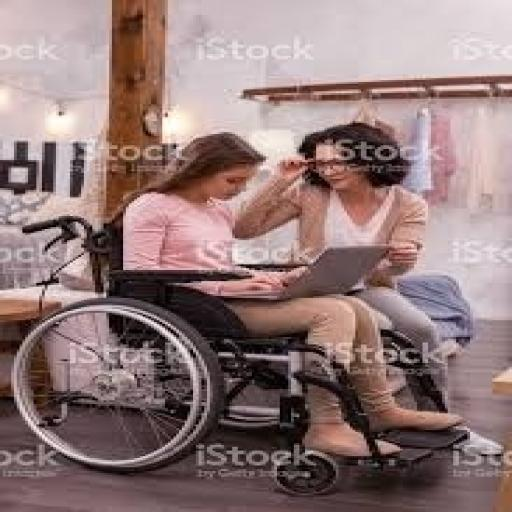using_laptop: (212, 242, 392, 302)
